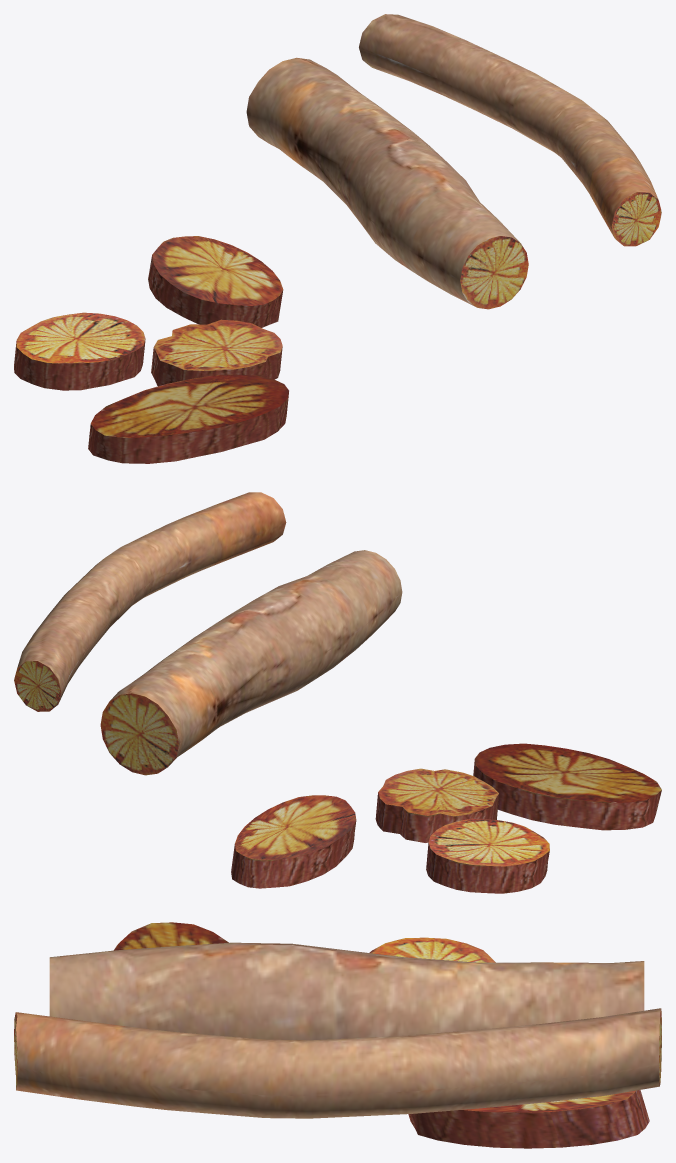
File: daxueteng.FBX
3 views of the same model, one above another, from view 1: azimuth 30°, elevation 25°; view 2: azimuth 150°, elevation 25°; view 3: azimuth 270°, elevation 25° (orthographic). The views are drawn at different scales.
Parts seen in each view (by area): view 1: Cylinder005, Cylinder006, Cylinder002, Cylinder004, Cylinder001, Cylinder003; view 2: Cylinder005, Cylinder006, Cylinder002, Cylinder004, Cylinder001, Cylinder003; view 3: Cylinder006, Cylinder005, Cylinder004, Cylinder001, Cylinder002.
Boxes of the visible parts, box(x1,y1,x2,y2) form: Cylinder005: box(246, 57, 528, 309); Cylinder006: box(359, 14, 661, 246); Cylinder002: box(88, 374, 288, 463); Cylinder004: box(148, 236, 283, 327); Cylinder001: box(14, 312, 145, 390); Cylinder003: box(151, 319, 282, 386); Cylinder005: box(100, 550, 402, 775); Cylinder006: box(14, 492, 286, 711); Cylinder002: box(473, 743, 661, 830); Cylinder004: box(231, 795, 356, 888); Cylinder001: box(426, 818, 549, 893); Cylinder003: box(375, 768, 498, 842); Cylinder006: box(14, 1008, 661, 1118); Cylinder005: box(49, 942, 644, 1040); Cylinder004: box(408, 1090, 649, 1148); Cylinder001: box(369, 937, 495, 962); Cylinder002: box(113, 922, 228, 950).
Bounding box in the file's own units: 49.34 × 16.35 × 38.24.
